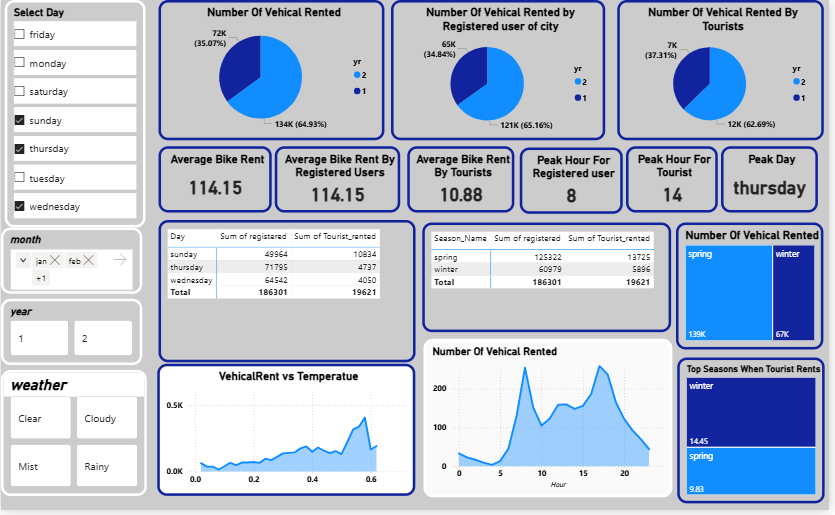

The page's visual inventory and layout, read from the dashboard file:
{"tool":"powerbi","page":{"name":"Page 1","canvas":[1300,800],"ordinal":0},"visuals":[{"type":"listSlicer","title":"Select Day","fields":{"Values":["BikeRentalData.Day"]},"box":[5.1,0.2,220.9,356.7],"z":0},{"type":"textSlicer","title":"month","fields":{"Values":["BikeRentalData.mnth"]},"box":[0.3,357.1,221.5,103.6],"z":1000},{"type":"advancedSlicerVisual","title":"year","fields":{"Values":["BikeRentalData.yr"]},"box":[0.3,468.4,221.5,103.6],"z":2000},{"type":"advancedSlicerVisual","title":"weather","fields":{"Values":["BikeRentalData.wether"]},"box":[0.3,580.8,229.1,197.5],"z":3000},{"type":"pieChart","title":"Number Of Vehical Rented","fields":{"Category":["BikeRentalData.yr"],"Y":["Sum(BikeRentalData.cnt)"]},"box":[246.9,0.4,354.6,220.4],"z":4000},{"type":"pieChart","title":"Number Of Vehical Rented by Registered user of city","fields":{"Y":["Sum(BikeRentalData.registered)"],"Category":["BikeRentalData.yr"]},"box":[612.3,0.4,336,220.4],"z":5000},{"type":"pieChart","title":"Number Of Vehical Rented By Tourists","fields":{"Category":["BikeRentalData.yr"],"Y":["Sum(BikeRentalData.Tourist_rented)"]},"box":[966.9,0.4,324,220.4],"z":6000},{"type":"card","title":"Average Bike Rent","fields":{"Values":["Avg(BikeRentalData.cnt)"]},"box":[246.6,229.3,177.5,104.3],"z":7000},{"type":"card","title":"Average Bike Rent By Registered  Users","fields":{"Values":["Avg(BikeRentalData.cnt)"]},"box":[429.5,229.3,196.8,104.3],"z":8000},{"type":"card","title":"Average Bike Rent By Tourists","fields":{"Values":["Avg(BikeRentalData.Tourist_rented)"]},"box":[637.1,229.3,167.8,104.3],"z":9000},{"type":"card","title":"Peak Hour For Registered user","fields":{"Values":["Min(BikeRentalData.hr)"]},"box":[813.5,230.4,161.3,104.3],"z":10000},{"type":"card","title":"Peak Day","fields":{"Values":["Min(BikeRentalData.Day)"]},"box":[1128.6,229.3,151.7,104.3],"z":11000},{"type":"pivotTable","title":"Number Of Vehical Rented","fields":{"Values":["Sum(BikeRentalData.registered)","Sum(BikeRentalData.Tourist_rented)"],"Rows":["BikeRentalData.Day"]},"box":[247,345.4,403.5,222.9],"z":12000},{"type":"pivotTable","title":"Number Of Vehical Rented","fields":{"Values":["Sum(BikeRentalData.registered)","Sum(BikeRentalData.Tourist_rented)"],"Rows":["BikeRentalData.Season_Name"]},"box":[661.3,348.7,390.6,172],"z":13000},{"type":"treemap","title":"Number Of Vehical Rented","fields":{"Values":["Sum(BikeRentalData.cnt)"],"Group":["BikeRentalData.Season_Name"]},"box":[1059.8,348.7,231.3,199],"z":14000},{"type":"areaChart","title":"Number Of Vehical Rented","fields":{"Category":["BikeRentalData.Hour"],"Y":["Avg(BikeRentalData.cnt)"]},"box":[661.8,530.5,390.4,248.5],"z":15000},{"type":"areaChart","title":"VehicalRent vs Temperatue","fields":{"Y":["Avg(BikeRentalData.cnt)"],"Category":["BikeRentalData.temp"]},"box":[245.5,571.4,404.4,207.6],"z":16000},{"type":"treemap","title":"Top Seasons When Tourist Rents","fields":{"Values":["Avg(BikeRentalData.Tourist_rented)"],"Group":["BikeRentalData.Season_Name"]},"box":[1060.9,561.7,231.3,229.1],"z":17000},{"type":"card","title":"Peak Hour For Tourist","fields":{"Values":["Min(BikeRentalData.hr)"]},"box":[980.2,229.3,144.1,104.3],"z":18000}]}

Visuals, with their boxes in screenshot pixels (x1, y1, x2, y2), scaled from the page's 1300x800 canvas onto the 835x515 screenshot:
"Select Day" listSlicer: (3,0,145,230)
"month" textSlicer: (0,230,142,297)
"year" advancedSlicerVisual: (0,302,142,368)
"weather" advancedSlicerVisual: (0,374,147,501)
"Number Of Vehical Rented" pieChart: (159,0,386,142)
"Number Of Vehical Rented by Registered user of city" pieChart: (393,0,609,142)
"Number Of Vehical Rented By Tourists" pieChart: (621,0,829,142)
"Average Bike Rent" card: (158,148,272,215)
"Average Bike Rent By Registered  Users" card: (276,148,402,215)
"Average Bike Rent By Tourists" card: (409,148,517,215)
"Peak Hour For Registered user" card: (523,148,626,215)
"Peak Day" card: (725,148,822,215)
"Number Of Vehical Rented" pivotTable: (159,222,418,366)
"Number Of Vehical Rented" pivotTable: (425,224,676,335)
"Number Of Vehical Rented" treemap: (681,224,829,353)
"Number Of Vehical Rented" areaChart: (425,342,676,501)
"VehicalRent vs Temperatue" areaChart: (158,368,417,501)
"Top Seasons When Tourist Rents" treemap: (681,362,830,509)
"Peak Hour For Tourist" card: (630,148,722,215)
